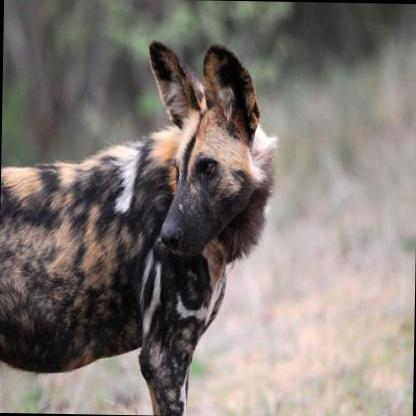African_hunting_dog: (0, 33, 275, 414)
